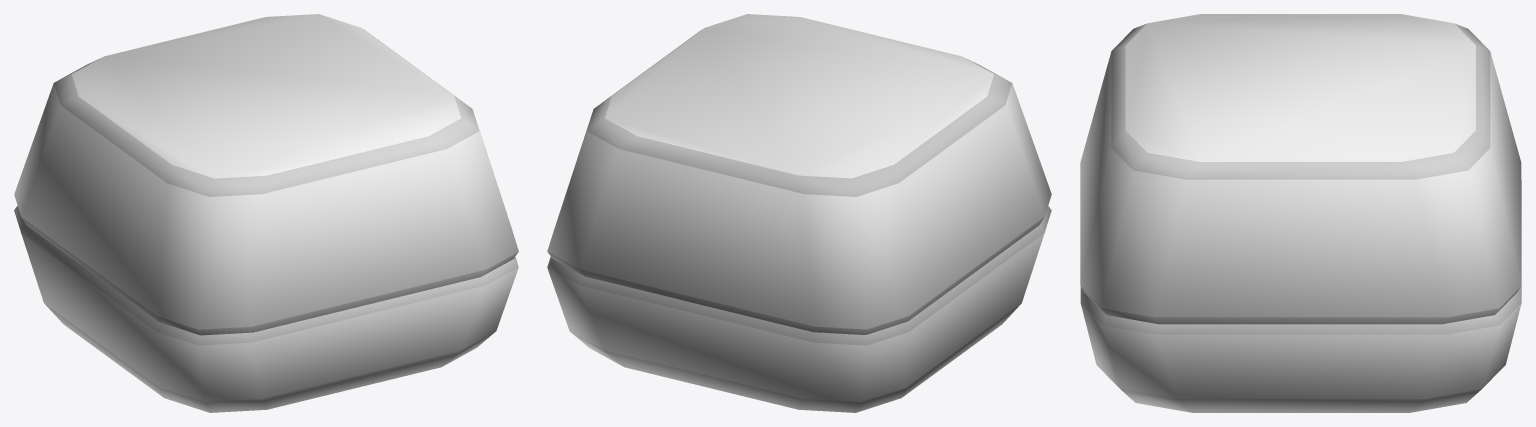
File: Food Save.glb
3 renders of one model, left to right at view 1: azimuth 30°, elevation 25°; view 2: azimuth 150°, elevation 25°; view 3: azimuth 270°, elevation 25°, orthographic. The views are drawn at different scales.
Parts seen in each view (by area): view 1: Food Save Slide, Food Save; view 2: Food Save Slide, Food Save; view 3: Food Save Slide, Food Save.
Boxes of the visible parts, x1,y1,x2,y2 form: Food Save Slide: (14,14,518,335); Food Save: (14,206,518,412); Food Save Slide: (547,14,1051,334); Food Save: (547,206,1051,412); Food Save Slide: (1080,14,1521,324); Food Save: (1080,180,1521,412).
Bounding box in the file's own units: 0.2066 × 0.1266 × 0.2067.
Materials: 1 (1 with a texture image).
